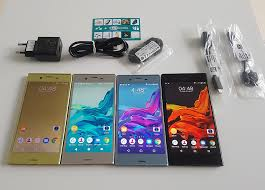sony: (159, 70, 224, 169)
